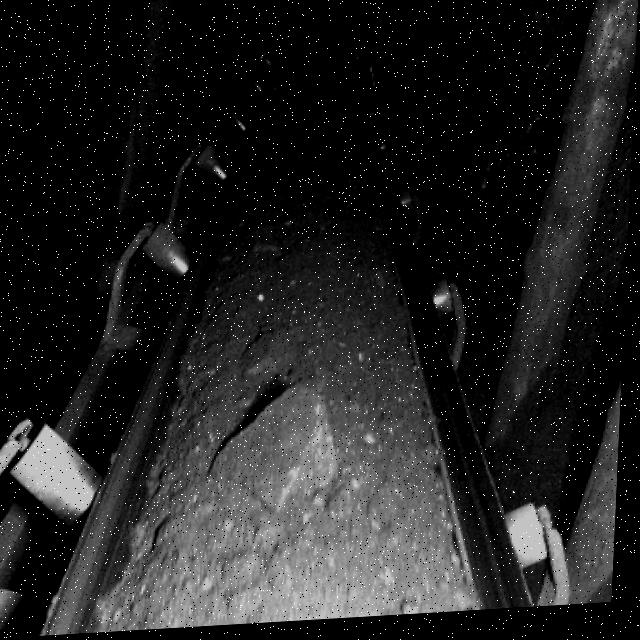large_sized_coal: (213, 385, 347, 512), (241, 331, 302, 384)
